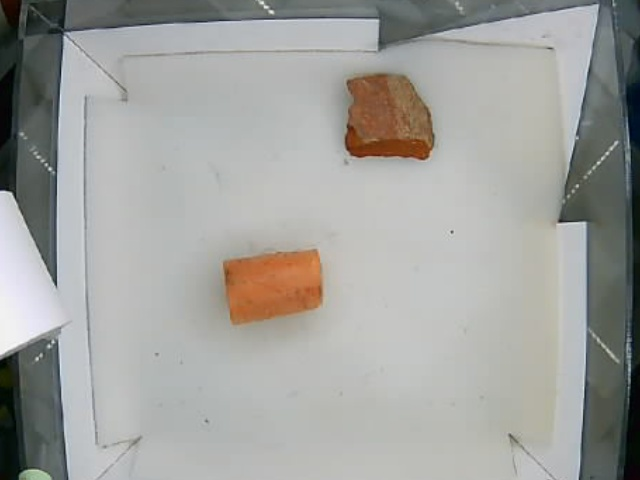Brisk: (341, 73, 439, 161)
Carrot: (220, 248, 322, 325)
